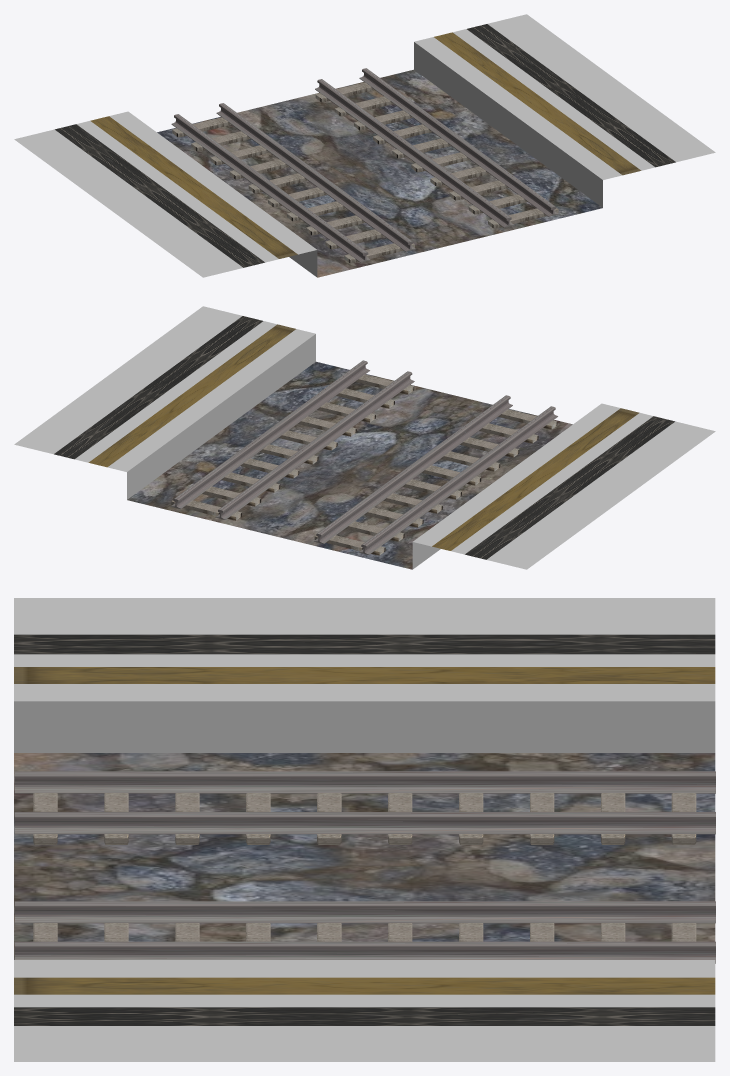
File: rotaieconbase.fbx
The picture shows the model from 3 angles, top to bottom: view 1: azimuth 30°, elevation 25°; view 2: azimuth 150°, elevation 25°; view 3: azimuth 270°, elevation 25°; orthographic projection. The views are drawn at different scales.
Visible parts, largest first — view 1: Plane, rotaia; view 2: Plane, rotaia; view 3: Plane, rotaia.
Boxes of the visible parts, x1,y1,x2,y2 form: Plane: [14, 14, 715, 277]; rotaia: [171, 68, 558, 263]; Plane: [14, 306, 715, 569]; rotaia: [171, 360, 557, 555]; Plane: [14, 598, 715, 1061]; rotaia: [14, 771, 715, 963].
Bounding box in the file's own units: 1346 × 70 × 861.
